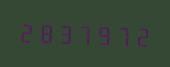eight: (36, 18, 54, 45)
nine: (93, 20, 111, 47)
seven: (74, 19, 92, 47), (112, 20, 130, 48)
three: (55, 18, 73, 46)
two: (17, 17, 35, 45), (131, 21, 149, 49)
